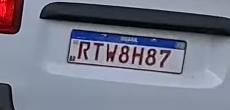Placa_mercosul_carro: (65, 29, 186, 73)
